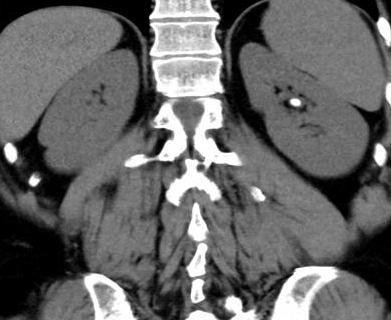Tas_Var: (290, 96, 302, 110)
